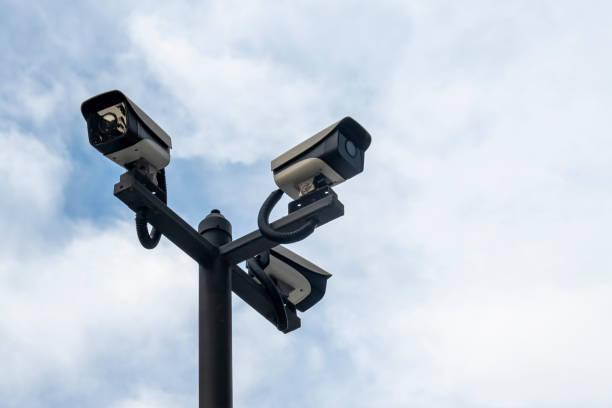camera: (196, 210, 376, 337), (261, 94, 380, 216), (63, 81, 174, 194)
